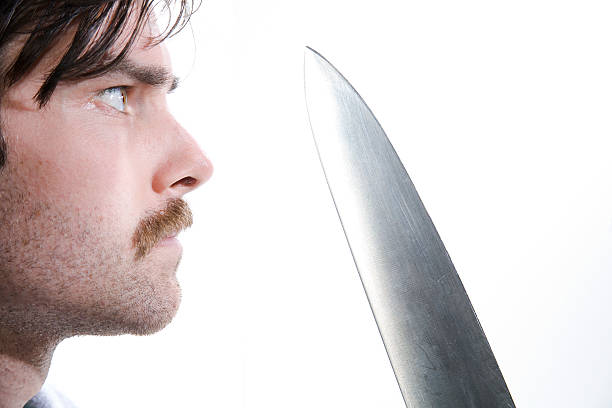knife: (301, 41, 520, 408)
